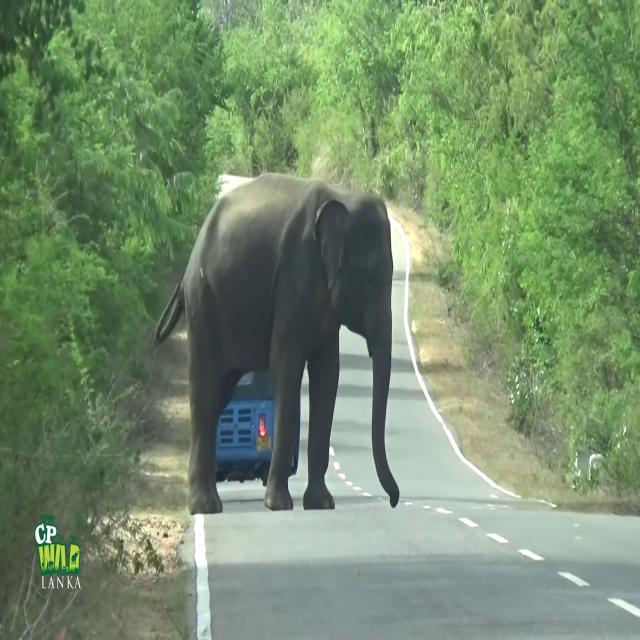Elephant: (153, 171, 400, 514)
